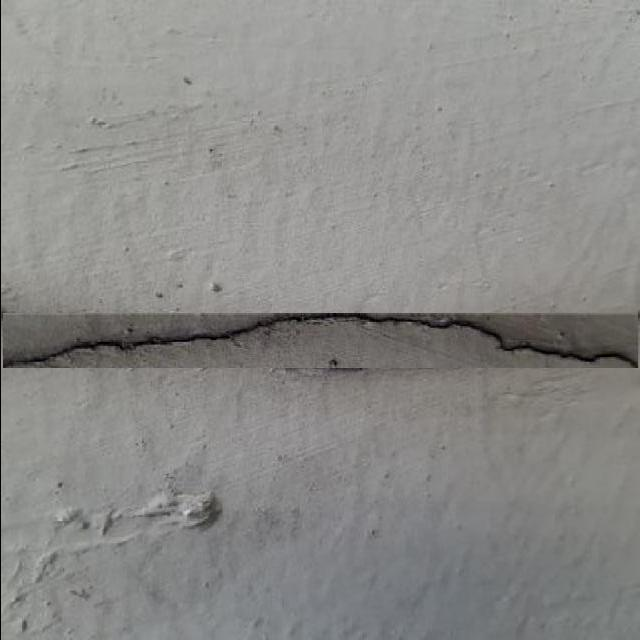Crack: (3, 310, 638, 371)
